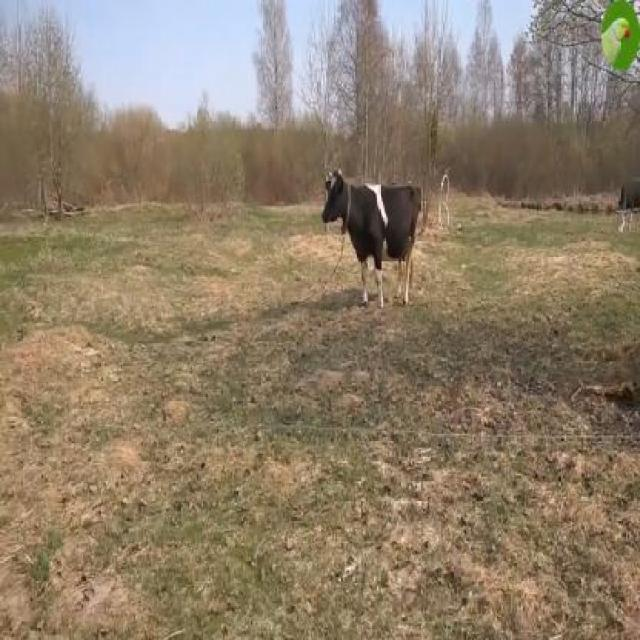Cow: (319, 172, 423, 306)
